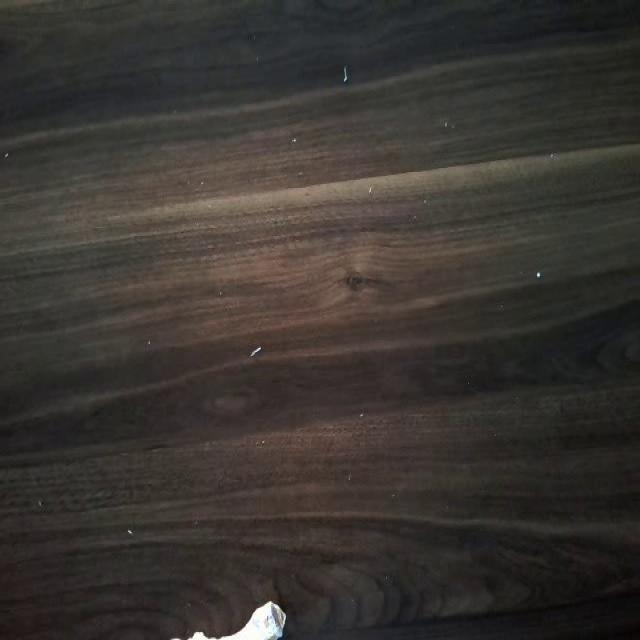leg: (167, 599, 290, 640)
